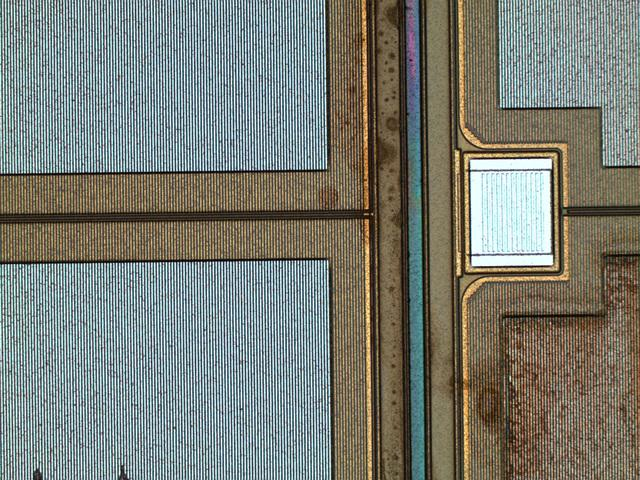SEZ BURNT: (314, 1, 640, 480)
